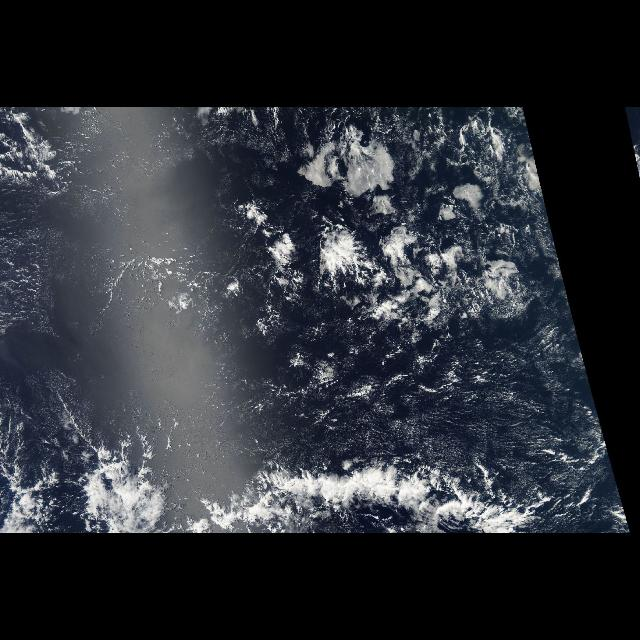Fish: (0, 377, 552, 533)
Flower: (230, 198, 370, 296)
Sugar: (2, 109, 600, 484)
